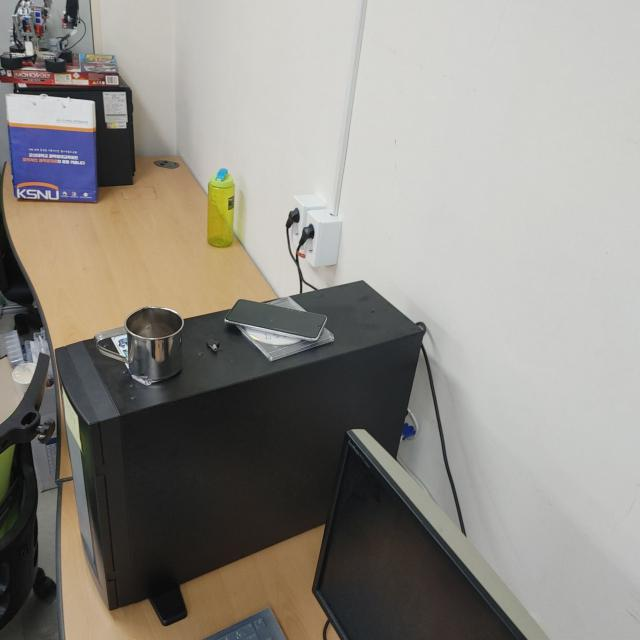cup: (92, 306, 186, 382)
phone: (225, 296, 328, 342)
